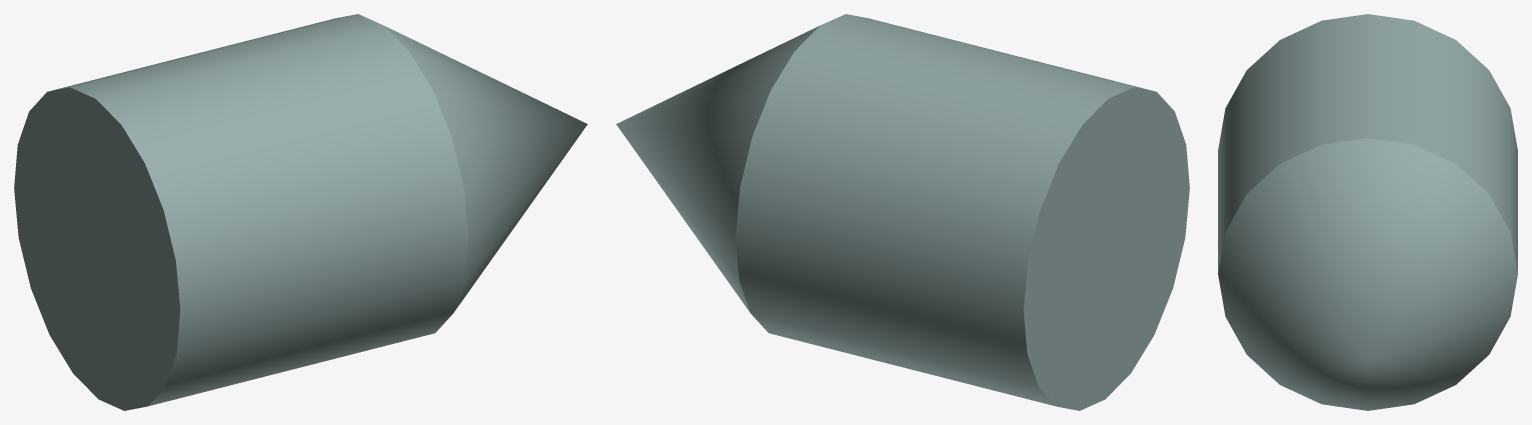
File: lansejiantouzidan.fbx
3 views of the same model, side by side, from view 1: azimuth 30°, elevation 25°; view 2: azimuth 150°, elevation 25°; view 3: azimuth 270°, elevation 25° (orthographic). The views are drawn at different scales.
Parts seen in each view (by area): view 1: pCylinder1; view 2: pCylinder1; view 3: pCylinder1.
Boxes of the visible parts, x1,y1,x2,y2 form: pCylinder1: (14, 14, 587, 410); pCylinder1: (616, 14, 1189, 410); pCylinder1: (1218, 14, 1517, 410).
Size of the model in its own units: 3.42 by 2.02 by 2.
